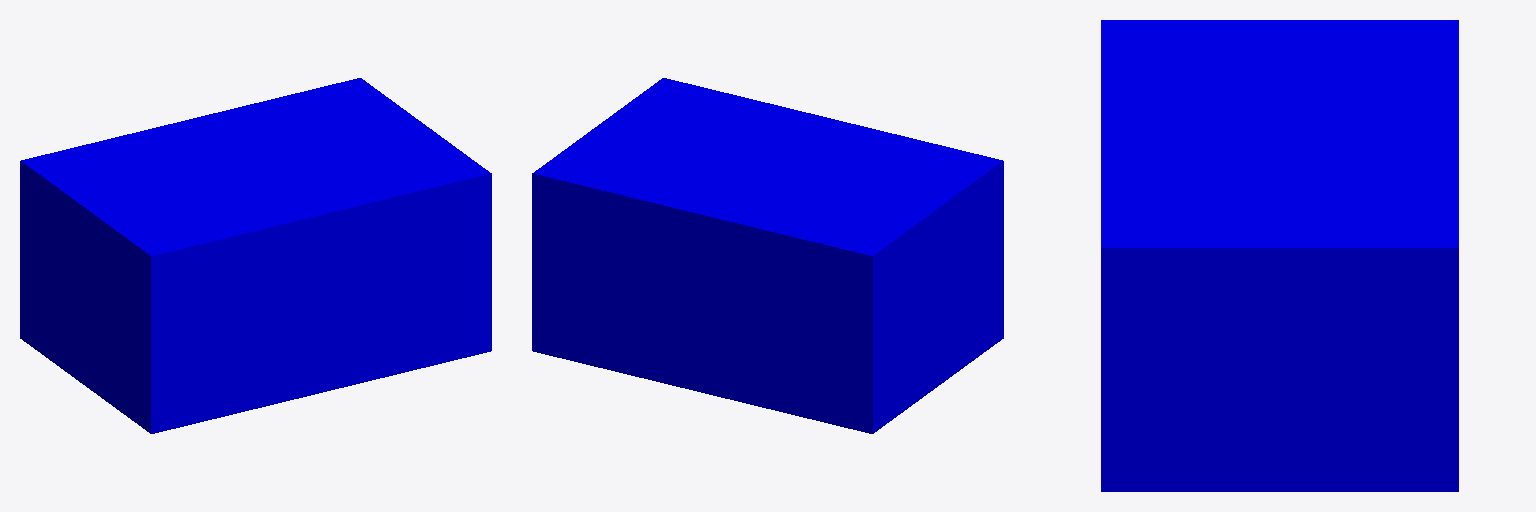
URDF robot description (box2):
<?xml version="1.0"?>
<robot name="box2">
  <!-- Define the base link of the box -->
  <link name="base_link">
    <!-- Visual properties -->
    <visual>
      <origin xyz="0 0 0.0" rpy="0 0 0"/>  <!-- Center of mass offset -->
      <geometry>
        <box size="0.12 0.08 0.06"/>  <!-- Dimensions: 5cm x 8cm x 3cm -->
      </geometry>
      <material name="blue">
        <color rgba="0 0 1 1"/>  <!-- Blue color -->
      </material>
    </visual>

    <!-- Collision properties -->
    <collision>
      <origin xyz="0 0 0.0.0" rpy="0 0 0"/>  <!-- Center of mass offset -->
      <geometry>
        <box size="0.12 0.08 0.06"/>  <!-- Dimensions: 5cm x 8cm x 3cm -->
      </geometry>
    </collision>

    <!-- Inertial properties -->
    <inertial>
      <origin xyz="0 0 0.0.0" rpy="0 0 0"/>  <!-- Center of mass offset -->
      <mass value="0.1"/>  <!-- Mass of the box (100 grams) -->
      <inertia ixx="0.0001" ixy="0" ixz="0" iyy="0.0001" iyz="0" izz="0.0001"/>  <!-- Approximate inertia -->
    </inertial>
  </link>
</robot>

--- What the picture shows (computed from the rendered views, not written in the file) ---
The picture shows the robot from 3 angles, left to right: view 1: azimuth 30°, elevation 25°; view 2: azimuth 150°, elevation 25°; view 3: azimuth 270°, elevation 25°; orthographic projection.
Model box2 with 1 links and 0 joints (none), rooted at base_link, posed all joints at 0.
Links seen in each view (by area): view 1: base_link; view 2: base_link; view 3: base_link.
Boxes of the visible links, bbox=[...] form: base_link: bbox=[20, 78, 491, 433]; base_link: bbox=[532, 78, 1003, 433]; base_link: bbox=[1101, 20, 1458, 491].
Bounding box of the posed robot: 0.12 × 0.08 × 0.06 m (x, y, z).
Geometry: primitives only (box / cylinder / sphere), no mesh files.